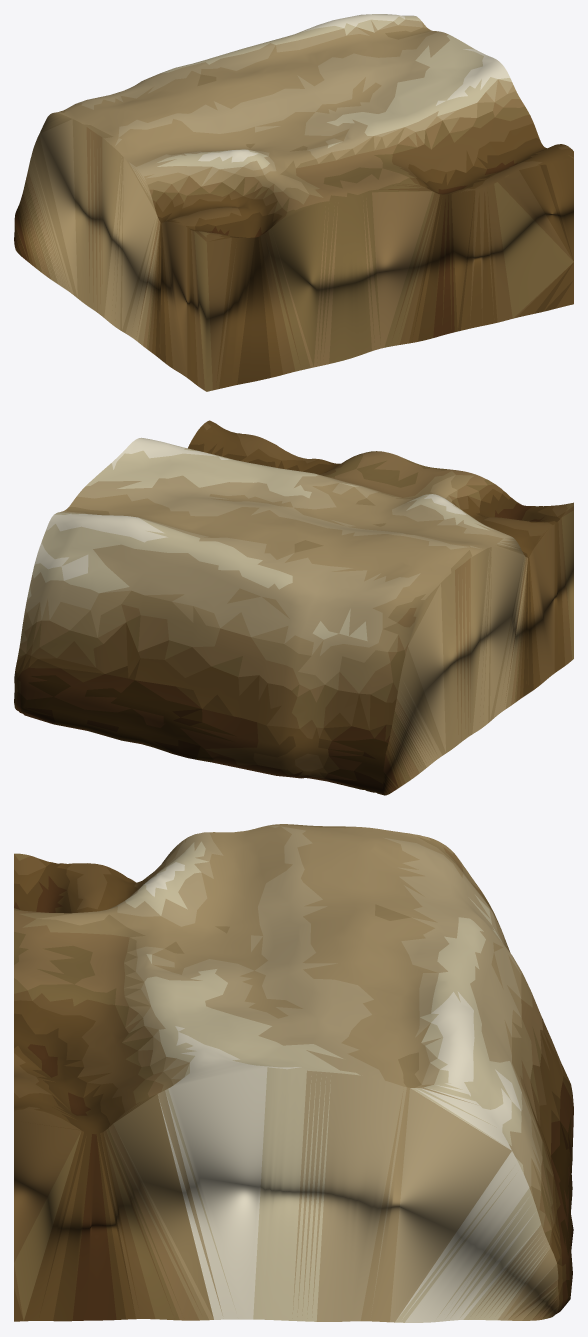
The model's file is rock_arch_168.glb.
3 views of the same model, one above another, from view 1: azimuth 30°, elevation 25°; view 2: azimuth 150°, elevation 25°; view 3: azimuth 270°, elevation 25° (orthographic). The views are drawn at different scales.
Parts seen in each view (by area): view 1: rock_arch_168; view 2: rock_arch_168; view 3: rock_arch_168.
Part boxes in pixels (bbox=[...]): rock_arch_168: bbox=[14, 14, 573, 391]; rock_arch_168: bbox=[14, 420, 573, 795]; rock_arch_168: bbox=[14, 824, 573, 1322].
Bounding box in the file's own units: 24 × 11.86 × 22.94.
